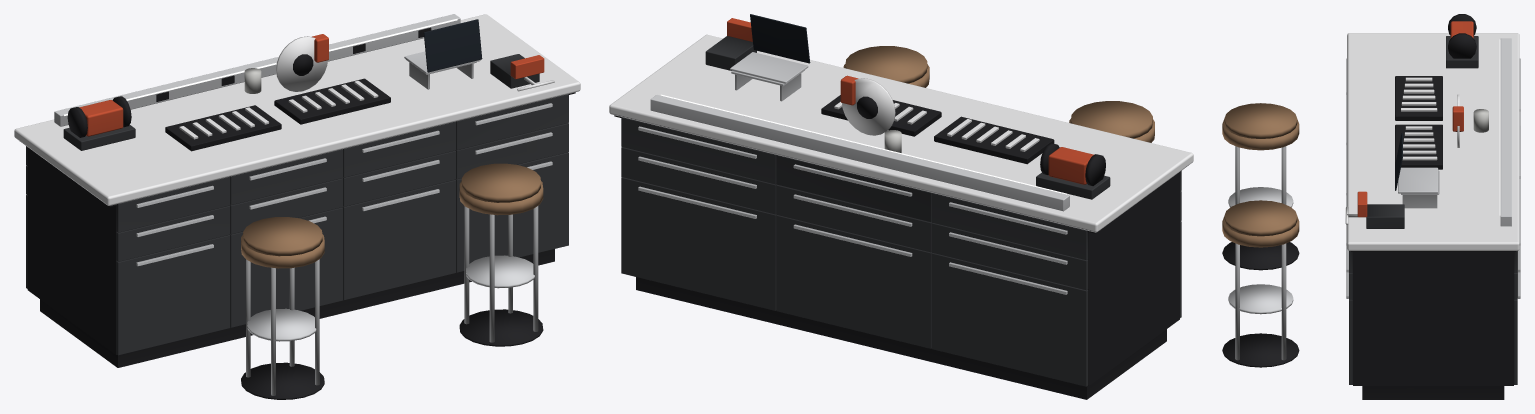
File: garage_workbench.gltf
3 views of the same model, side by side, from view 1: azimuth 30°, elevation 25°; view 2: azimuth 150°, elevation 25°; view 3: azimuth 270°, elevation 25° (orthographic). The views are drawn at different scales.
Parts seen in each view (by area): view 1: GarageWorkbench_Detail_Piping_Garage_Graphite, GarageWorkbench_Body_Steel_Polished, GarageWorkbench_Body_Garage_GraphiteDark, GarageWorkbench_Detail_Piping_Garage_Aluminium, GarageWorkbench_Detail_Piping_Garage_GraphiteDark, GarageWorkbench_Detail_Piping_Garage_Leather, GarageWorkbench_Detail_Piping_Steel_Polished, GarageWorkbench_Detail_Piping_Garage_Screen, GarageWorkbench_Detail_Piping_Garage_Accent, GarageWorkbench_Detail_Piping_Garage_LED; view 2: GarageWorkbench_Detail_Piping_Garage_Graphite, GarageWorkbench_Body_Steel_Polished, GarageWorkbench_Body_Garage_GraphiteDark, GarageWorkbench_Detail_Piping_Garage_Aluminium, GarageWorkbench_Detail_Piping_Garage_GraphiteDark, GarageWorkbench_Detail_Piping_Garage_Leather, GarageWorkbench_Drawer_Front, GarageWorkbench_Detail_Piping_Steel_Polished, GarageWorkbench_Detail_Piping_Garage_Accent, GarageWorkbench_Detail_Piping_Garage_Screen, GarageWorkbench_Detail_Piping_Garage_LED, GarageWorkbench_Drawer_Pull; view 3: GarageWorkbench_Body_Steel_Polished, GarageWorkbench_Body_Garage_GraphiteDark, GarageWorkbench_Detail_Piping_Garage_Aluminium, GarageWorkbench_Detail_Piping_Garage_GraphiteDark, GarageWorkbench_Detail_Piping_Garage_Leather, GarageWorkbench_Detail_Piping_Garage_Graphite, GarageWorkbench_Detail_Piping_Steel_Polished, GarageWorkbench_Detail_Piping_Garage_Accent, GarageWorkbench_Detail_Piping_Garage_WhiteLacquer, GarageWorkbench_Detail_Piping_Garage_LED.
Boxes of the visible parts, x1,y1,x2,y2 form: GarageWorkbench_Detail_Piping_Garage_Graphite: [26, 54, 568, 355]; GarageWorkbench_Body_Steel_Polished: [14, 14, 580, 205]; GarageWorkbench_Body_Garage_GraphiteDark: [27, 92, 575, 367]; GarageWorkbench_Detail_Piping_Garage_Aluminium: [54, 14, 552, 395]; GarageWorkbench_Detail_Piping_Garage_GraphiteDark: [67, 27, 543, 399]; GarageWorkbench_Detail_Piping_Garage_Leather: [241, 163, 543, 268]; GarageWorkbench_Detail_Piping_Steel_Polished: [179, 36, 554, 139]; GarageWorkbench_Detail_Piping_Garage_Screen: [423, 19, 482, 72]; GarageWorkbench_Detail_Piping_Garage_Accent: [79, 34, 544, 136]; GarageWorkbench_Detail_Piping_Garage_LED: [64, 18, 457, 115]; GarageWorkbench_Detail_Piping_Garage_Graphite: [621, 36, 1181, 386]; GarageWorkbench_Body_Steel_Polished: [609, 34, 1193, 232]; GarageWorkbench_Body_Garage_GraphiteDark: [614, 115, 1179, 399]; GarageWorkbench_Detail_Piping_Garage_Aluminium: [638, 52, 1069, 294]; GarageWorkbench_Detail_Piping_Garage_GraphiteDark: [821, 95, 1105, 185]; GarageWorkbench_Detail_Piping_Garage_Leather: [843, 46, 1154, 142]; GarageWorkbench_Drawer_Front: [776, 155, 931, 221]; GarageWorkbench_Detail_Piping_Steel_Polished: [834, 78, 1039, 151]; GarageWorkbench_Detail_Piping_Garage_Accent: [727, 18, 1093, 184]; GarageWorkbench_Detail_Piping_Garage_Screen: [750, 14, 810, 63]; GarageWorkbench_Detail_Piping_Garage_LED: [660, 94, 1066, 194]; GarageWorkbench_Drawer_Pull: [793, 164, 912, 196]; GarageWorkbench_Body_Steel_Polished: [1347, 33, 1519, 250]; GarageWorkbench_Body_Garage_GraphiteDark: [1351, 251, 1515, 399]; GarageWorkbench_Detail_Piping_Garage_Aluminium: [1228, 38, 1520, 360]; GarageWorkbench_Detail_Piping_Garage_GraphiteDark: [1222, 14, 1476, 367]; GarageWorkbench_Detail_Piping_Garage_Leather: [1222, 103, 1299, 247]; GarageWorkbench_Detail_Piping_Garage_Graphite: [1349, 36, 1517, 384]; GarageWorkbench_Detail_Piping_Steel_Polished: [1345, 77, 1459, 224]; GarageWorkbench_Detail_Piping_Garage_Accent: [1357, 21, 1473, 217]; GarageWorkbench_Detail_Piping_Garage_WhiteLacquer: [1473, 109, 1488, 132]; GarageWorkbench_Detail_Piping_Garage_LED: [1499, 39, 1500, 215].
Bounding box in the file's own units: 2.6 × 1.26 × 1.55.
